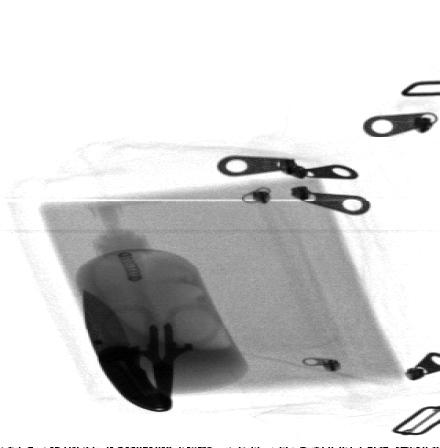Knife: (84, 289, 172, 411)
Scissors: (101, 300, 223, 411)
